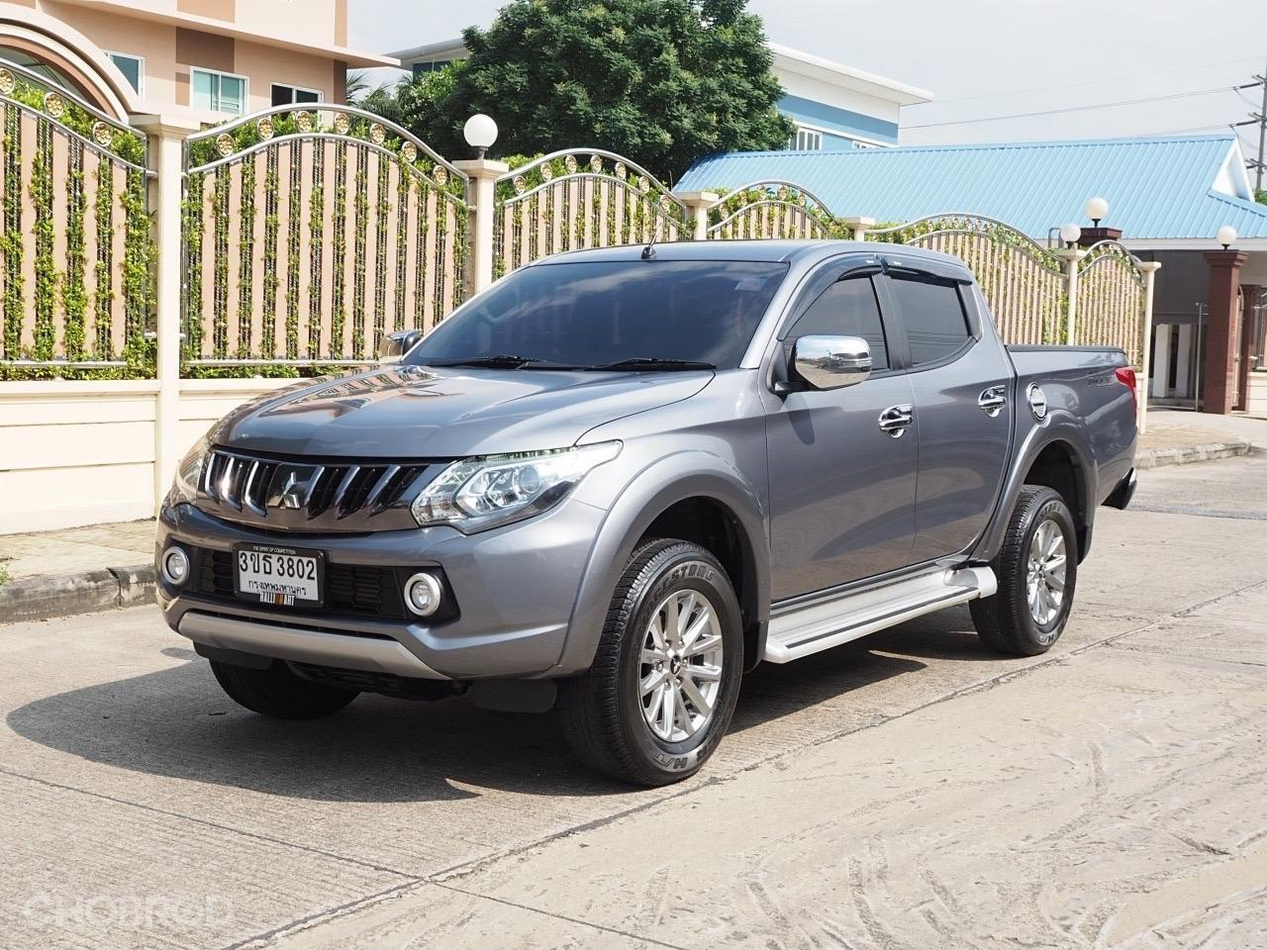license-plate: (228, 540, 331, 605)
